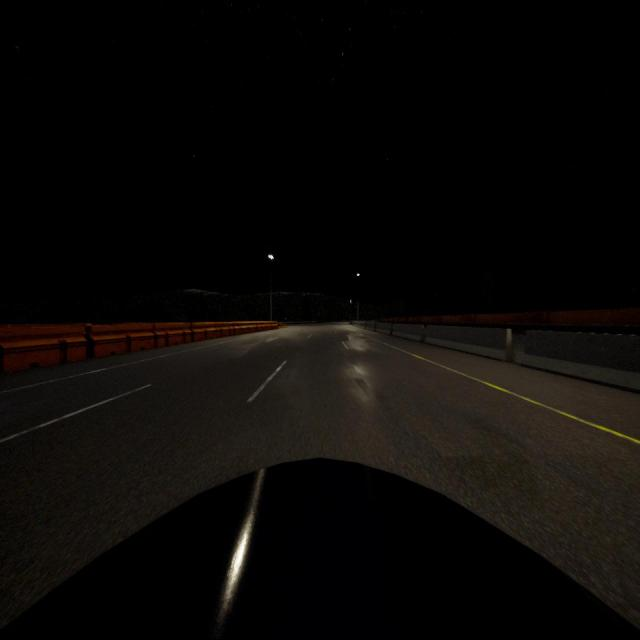Vehicle: (1, 457, 640, 640)
